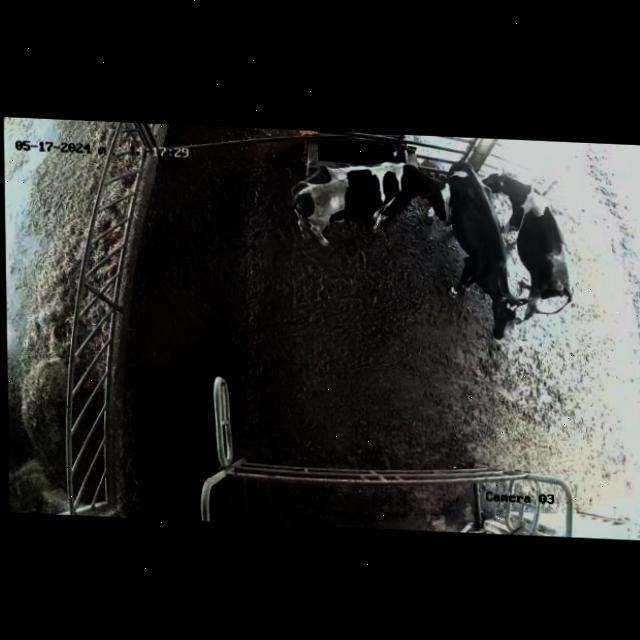stand: (285, 155, 453, 273), (481, 144, 585, 317), (445, 152, 524, 355)
